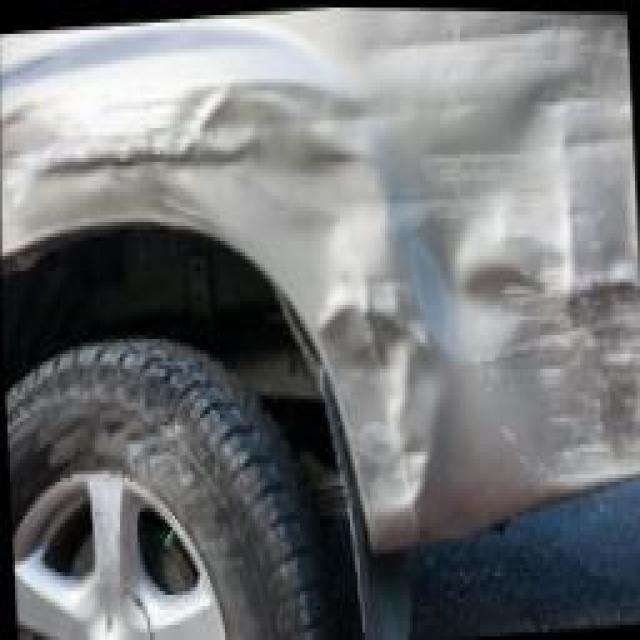Fender: (0, 8, 640, 549)
